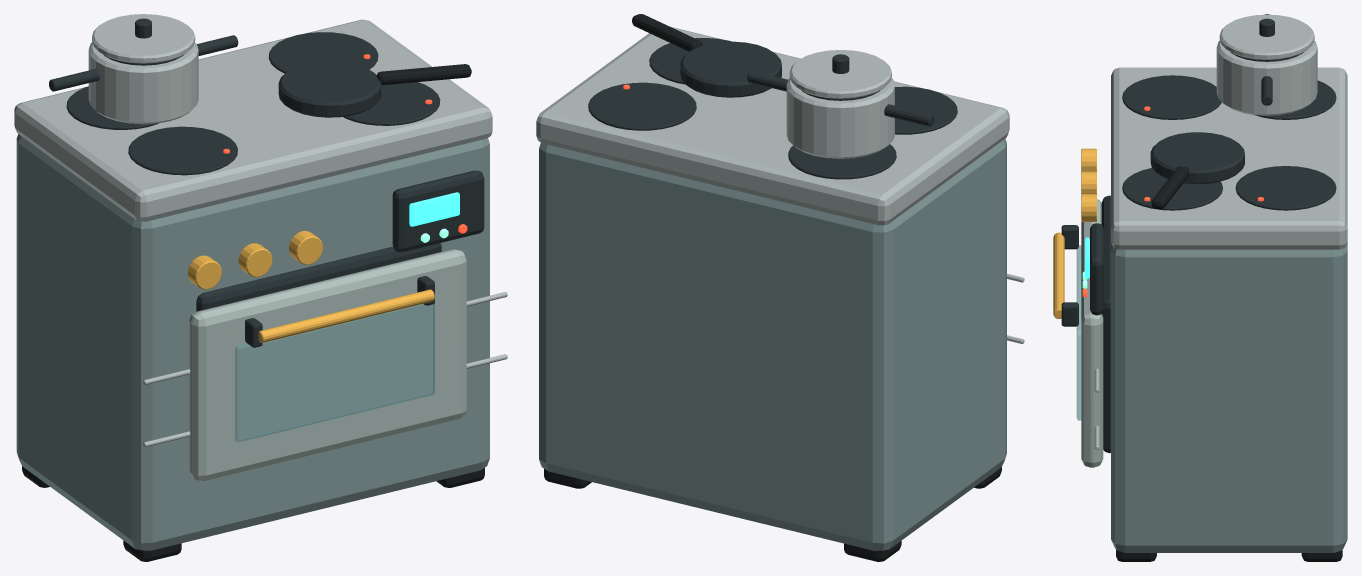
File: Fourneau industriel avec four.glb
3 renders of one model, left to right at view 1: azimuth 30°, elevation 25°; view 2: azimuth 150°, elevation 25°; view 3: azimuth 270°, elevation 25°, orthographic. The views are drawn at different scales.
Parts seen in each view (by area): view 1: RANGE_Armored_Body, RANGE_Oven_Door_Frame, RANGE_Stainless_Top, RANGE_Oven_Door_Glass, RANGE_Stockpot_Pot_Body, RANGE_Frying_Pan_Pan_Bowl, RANGE_Control_Recess, RANGE_Induction_Plate_-0.34_-0.18, RANGE_Oven_Cavity, RANGE_Stockpot_Lid, RANGE_Induction_Plate_0.34_0.18, RANGE_Induction_Plate_0.34_-0.18 (+9 smaller); view 2: RANGE_Armored_Body, RANGE_Stainless_Top, RANGE_Stockpot_Pot_Body, RANGE_Frying_Pan_Pan_Bowl, RANGE_Induction_Plate_0.34_0.18, RANGE_Stockpot_Lid, RANGE_Induction_Plate_-0.34_0.18, RANGE_Induction_Plate_-0.34_-0.18, RANGE_Induction_Plate_0.34_-0.18, RANGE_Frying_Pan_Long_Handle, RANGE_Stockpot_Side_Handle_-1; view 3: RANGE_Armored_Body, RANGE_Stainless_Top, RANGE_Stockpot_Pot_Body, RANGE_Oven_Door_Frame, RANGE_Frying_Pan_Pan_Bowl, RANGE_Induction_Plate_0.34_0.18, RANGE_Induction_Plate_-0.34_-0.18, RANGE_Stockpot_Lid, RANGE_Induction_Plate_0.34_-0.18, RANGE_Oven_Cavity, RANGE_Control_Recess, RANGE_Oven_Door_Glass (+8 smaller).
Boxes of the visible parts, left/top/right/bottom form: RANGE_Armored_Body: left=16, top=134, right=489, bottom=550; RANGE_Oven_Door_Frame: left=189, top=249, right=466, bottom=480; RANGE_Stainless_Top: left=14, top=19, right=492, bottom=221; RANGE_Oven_Door_Glass: left=235, top=303, right=434, bottom=442; RANGE_Stockpot_Pot_Body: left=88, top=42, right=198, bottom=124; RANGE_Frying_Pan_Pan_Bowl: left=278, top=61, right=381, bottom=117; RANGE_Control_Recess: left=392, top=170, right=484, bottom=252; RANGE_Induction_Plate_-0.34_-0.18: left=128, top=126, right=237, bottom=175; RANGE_Oven_Cavity: left=196, top=243, right=441, bottom=311; RANGE_Stockpot_Lid: left=92, top=14, right=195, bottom=63; RANGE_Induction_Plate_0.34_0.18: left=268, top=32, right=378, bottom=73; RANGE_Induction_Plate_0.34_-0.18: left=343, top=82, right=440, bottom=125; RANGE_Armored_Body: left=539, top=138, right=1006, bottom=550; RANGE_Stainless_Top: left=536, top=26, right=1009, bottom=225; RANGE_Stockpot_Pot_Body: left=786, top=77, right=894, bottom=158; RANGE_Frying_Pan_Pan_Bowl: left=680, top=41, right=781, bottom=97; RANGE_Induction_Plate_0.34_0.18: left=588, top=82, right=696, bottom=130; RANGE_Stockpot_Lid: left=789, top=50, right=891, bottom=98; RANGE_Induction_Plate_-0.34_0.18: left=788, top=144, right=896, bottom=179; RANGE_Induction_Plate_-0.34_-0.18: left=895, top=86, right=957, bottom=134; RANGE_Induction_Plate_0.34_-0.18: left=649, top=38, right=731, bottom=84; RANGE_Frying_Pan_Long_Handle: left=632, top=14, right=702, bottom=51; RANGE_Stockpot_Side_Handle_-1: left=884, top=104, right=934, bottom=126; RANGE_Armored_Body: left=1111, top=242, right=1347, bottom=552; RANGE_Stainless_Top: left=1111, top=67, right=1347, bottom=249; RANGE_Stockpot_Pot_Body: left=1216, top=40, right=1317, bottom=115; RANGE_Oven_Door_Frame: left=1081, top=199, right=1103, bottom=467; RANGE_Frying_Pan_Pan_Bowl: left=1150, top=132, right=1244, bottom=184; RANGE_Induction_Plate_0.34_0.18: left=1235, top=166, right=1336, bottom=210; RANGE_Induction_Plate_-0.34_-0.18: left=1122, top=75, right=1221, bottom=119; RANGE_Stockpot_Lid: left=1219, top=14, right=1314, bottom=59; RANGE_Induction_Plate_0.34_-0.18: left=1122, top=168, right=1222, bottom=210; RANGE_Oven_Cavity: left=1101, top=195, right=1110, bottom=453; RANGE_Control_Recess: left=1090, top=223, right=1103, bottom=315; RANGE_Oven_Door_Glass: left=1076, top=245, right=1081, bottom=420.
Bounding box in the file's own units: 1.22 × 1.49 × 0.933.
